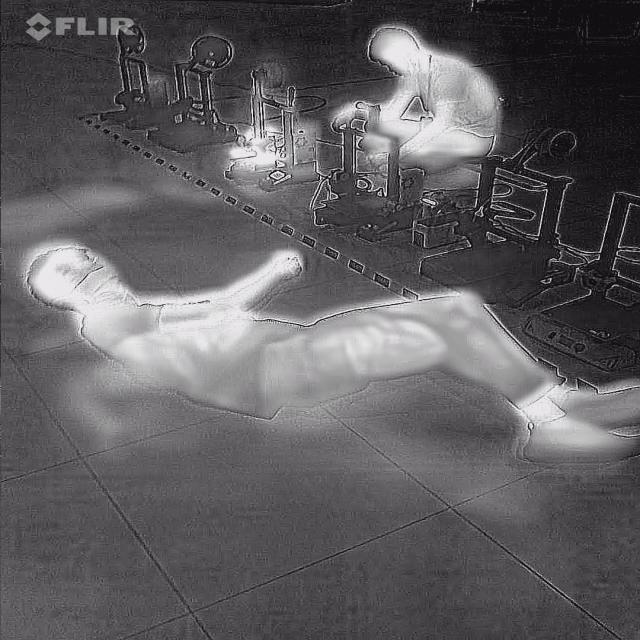Victim: (18, 241, 634, 472), (316, 24, 510, 178)
